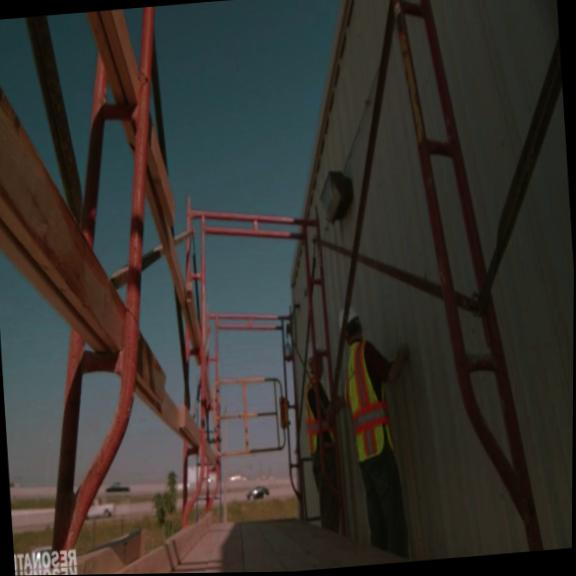safety_vest: (340, 337, 397, 465), (302, 374, 340, 456)
